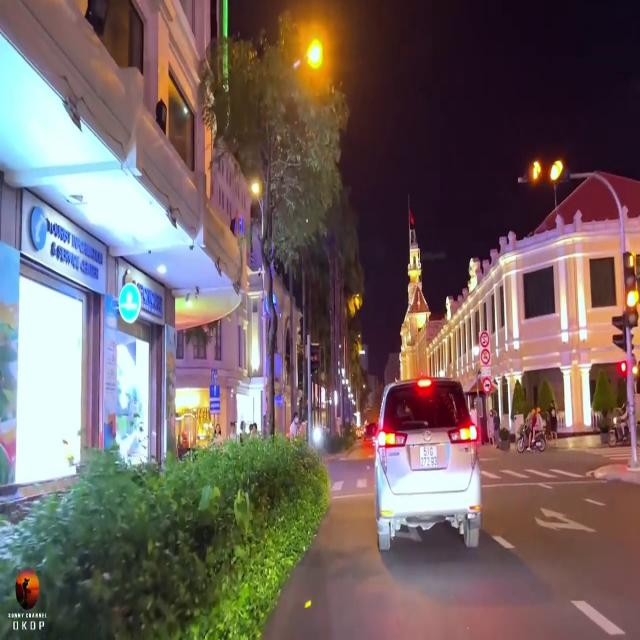bien_trang: (420, 441, 437, 472)
